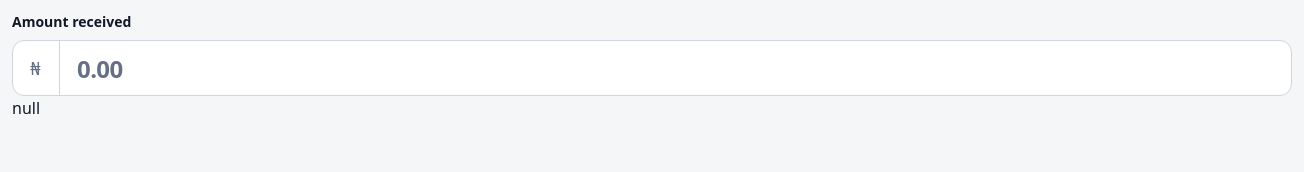
it: MoneyInput › clears the error once the text is fixed
Type "1.234" into the field labelled "Amount received" at (652, 68), box 12,40 -> 1292,96
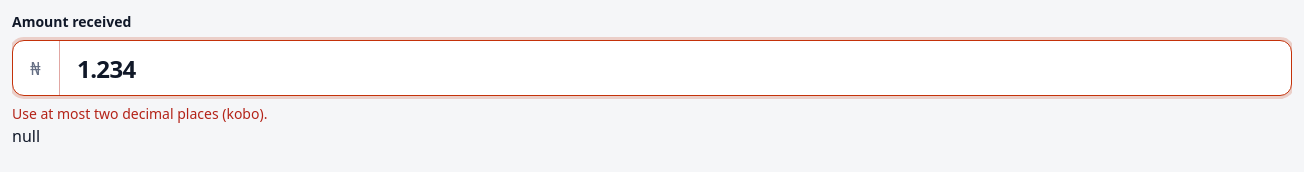
Press Backspace
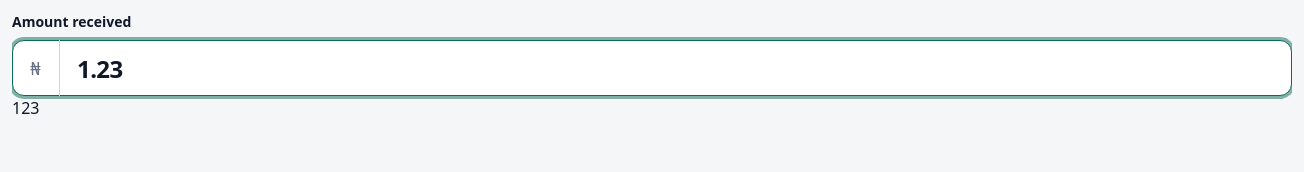
Expected: the message "Use at most two decimal places (kobo)." is gone
